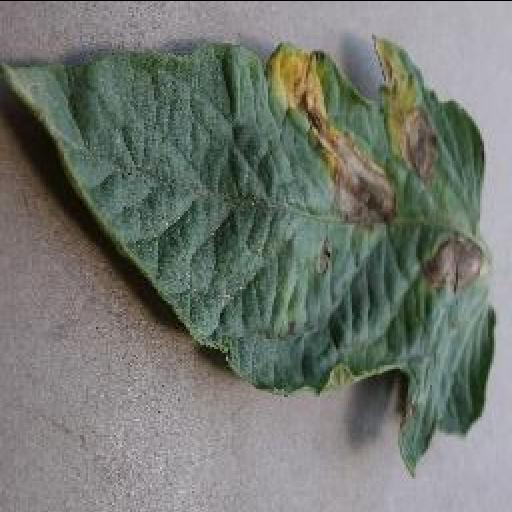disease_tomato: (0, 34, 496, 470)
